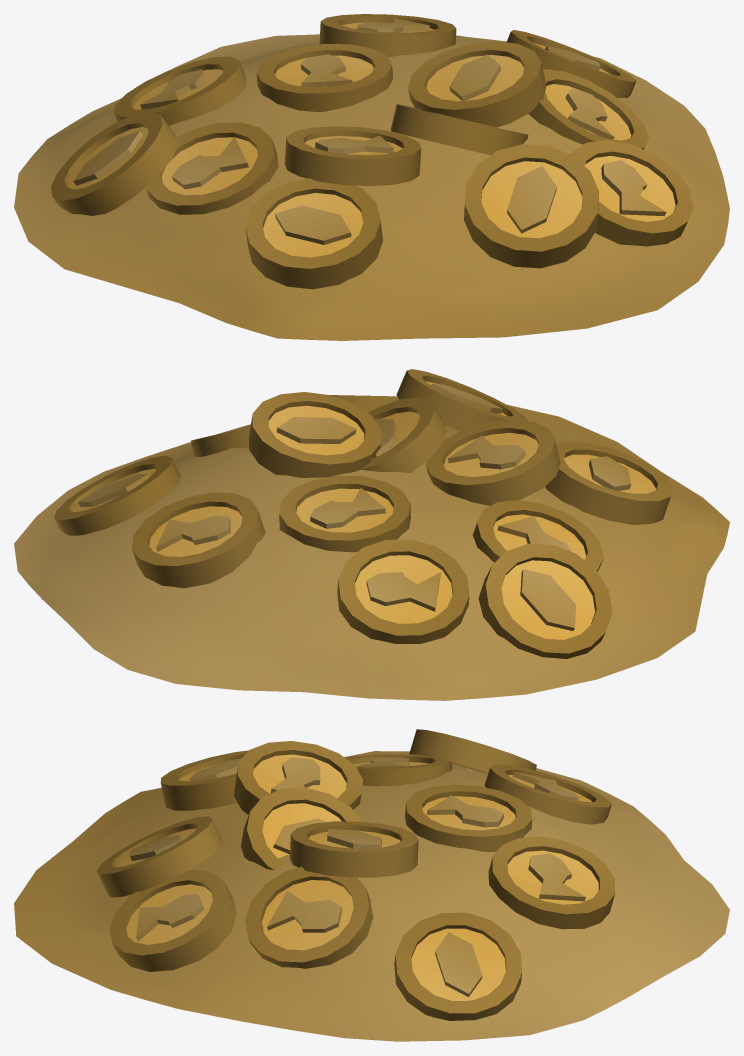
The model's file is OBJ_CursedCoins.fbx.
3 views of the same model, one above another, from view 1: azimuth 30°, elevation 25°; view 2: azimuth 150°, elevation 25°; view 3: azimuth 270°, elevation 25° (orthographic). The views are drawn at different scales.
Visible parts, largest first — view 1: OBJ_CursedCoins; view 2: OBJ_CursedCoins; view 3: OBJ_CursedCoins.
Boxes of the visible parts, box(x1,y1,x2,y2) form: OBJ_CursedCoins: box(14, 14, 729, 340); OBJ_CursedCoins: box(14, 369, 729, 700); OBJ_CursedCoins: box(14, 729, 729, 1041).
Size of the model in its own units: 61.71 by 11.32 by 64.25.
